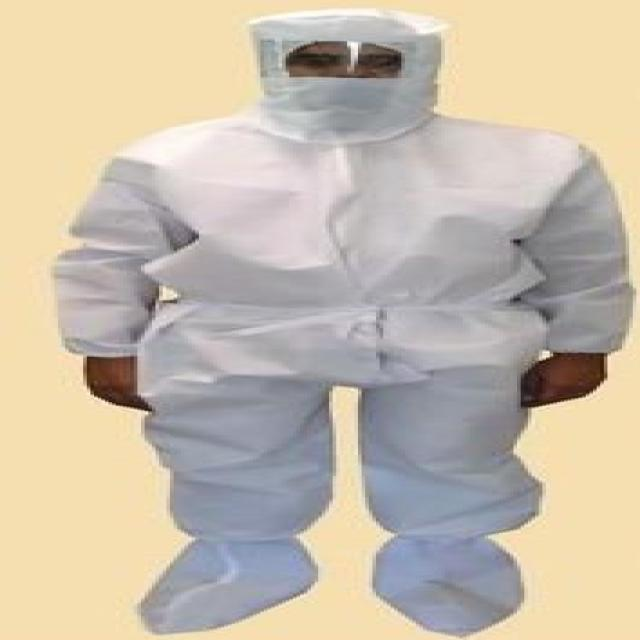Coverall: (54, 0, 604, 640)
Mask: (250, 70, 474, 131)
